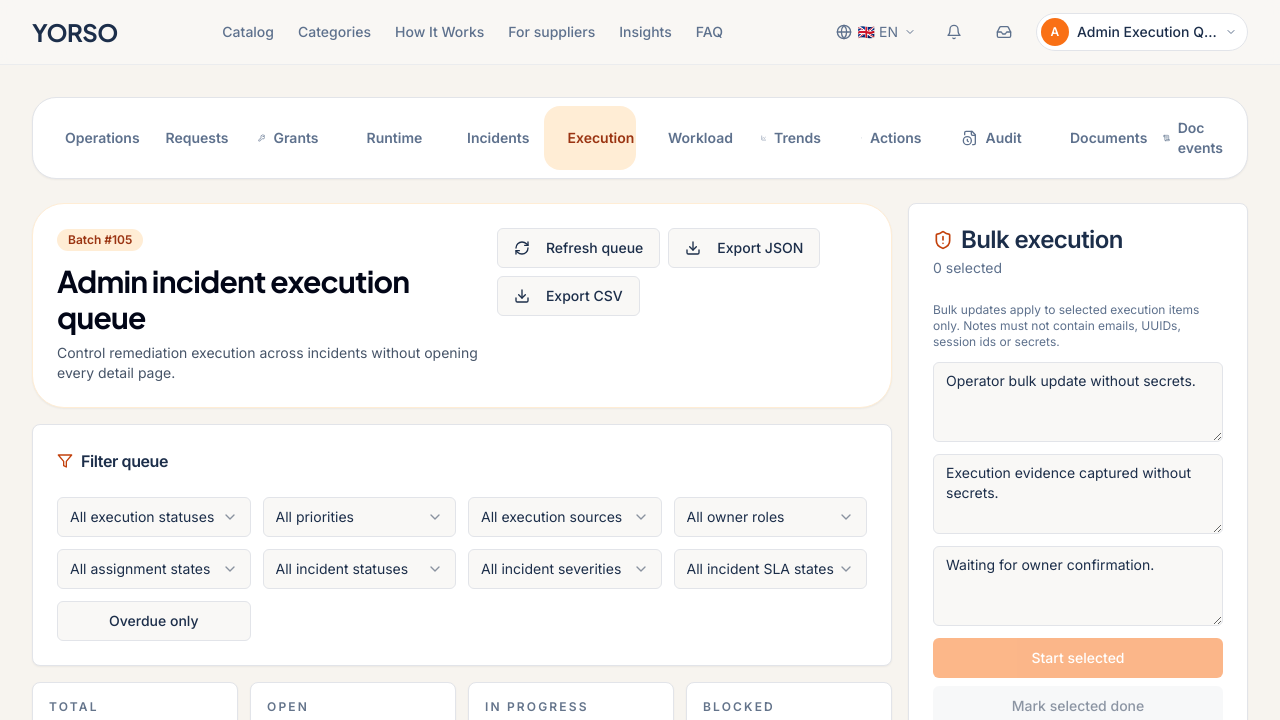
Test case: AdminIncidentExecutionQueue page › renders execution queue, exports and bulk updates selected items
Click the button with test id "admin-incident-execution-export-json".
click(744, 248)  # box [668,228,820,268]
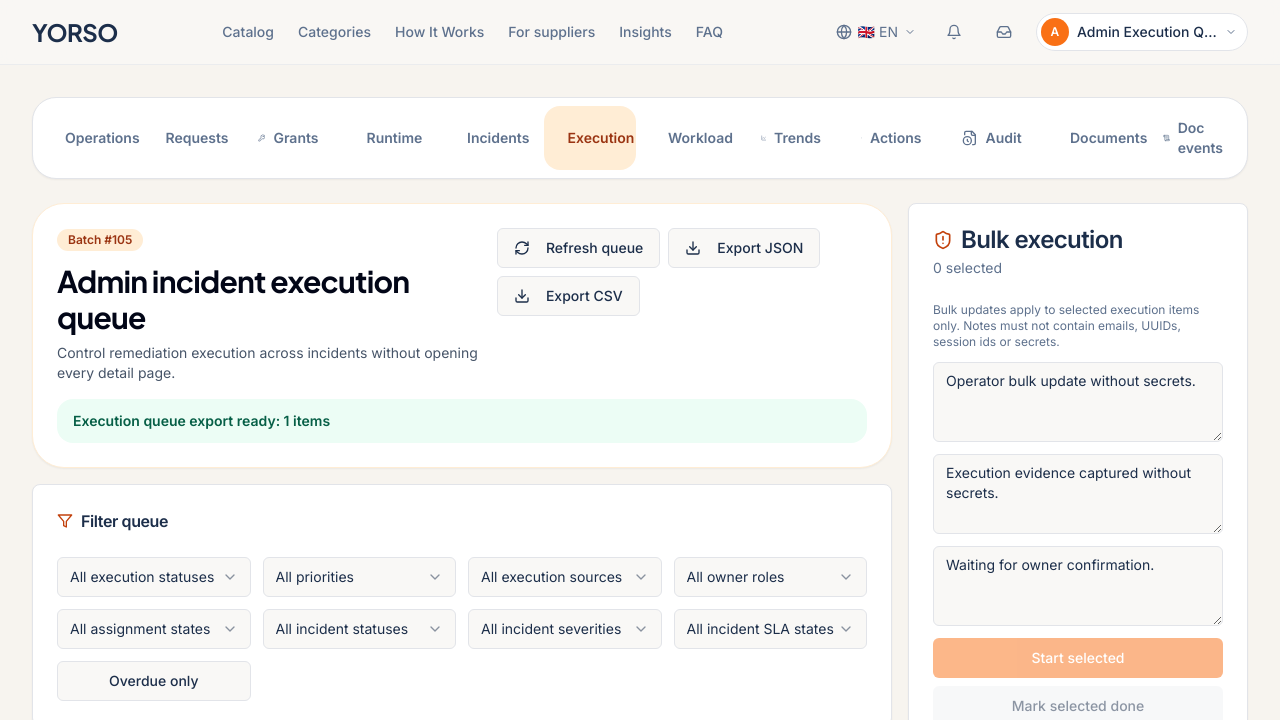
Expected: the text with test id "admin-incident-execution-export-status" shows "1 items", [73,412,330,429]
Click the button with test id "admin-incident-execution-export-csv".
click(568, 296)  # box [497,276,640,316]
(page scrolled)
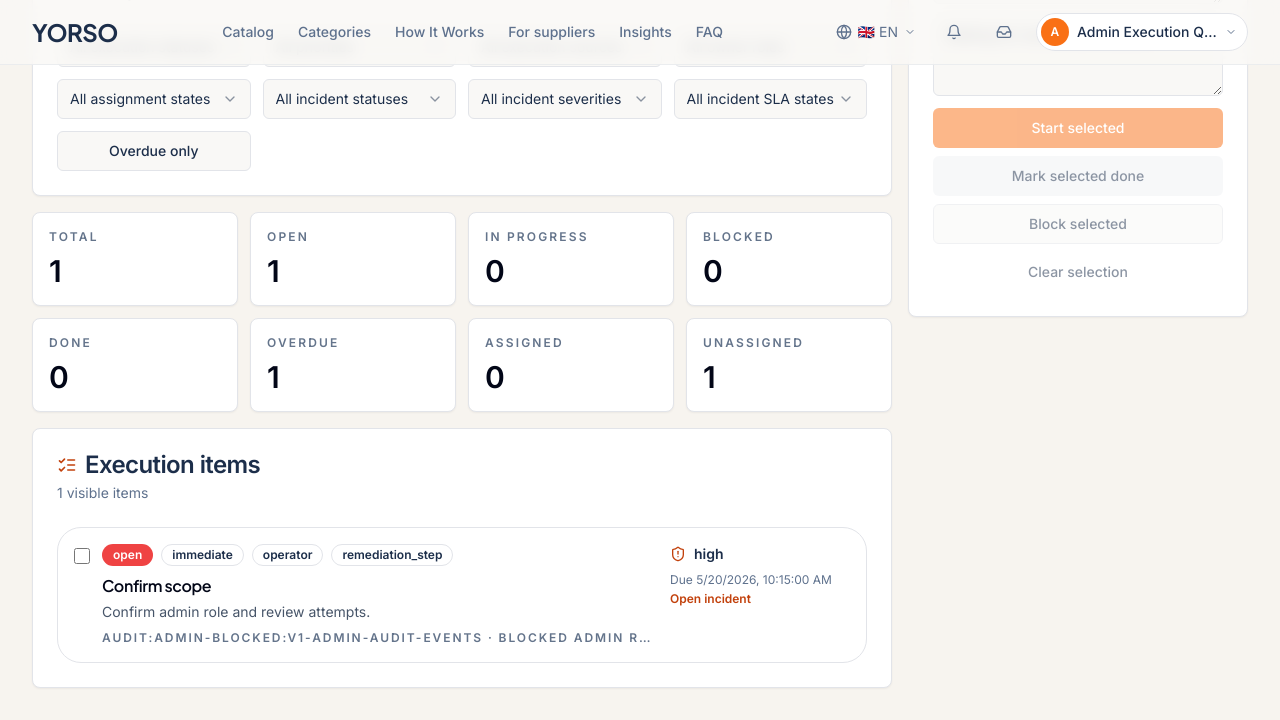
Click the checkbox named "Select remediation:01:confirm-scope".
click(82, 556)  # box [74,548,90,564]
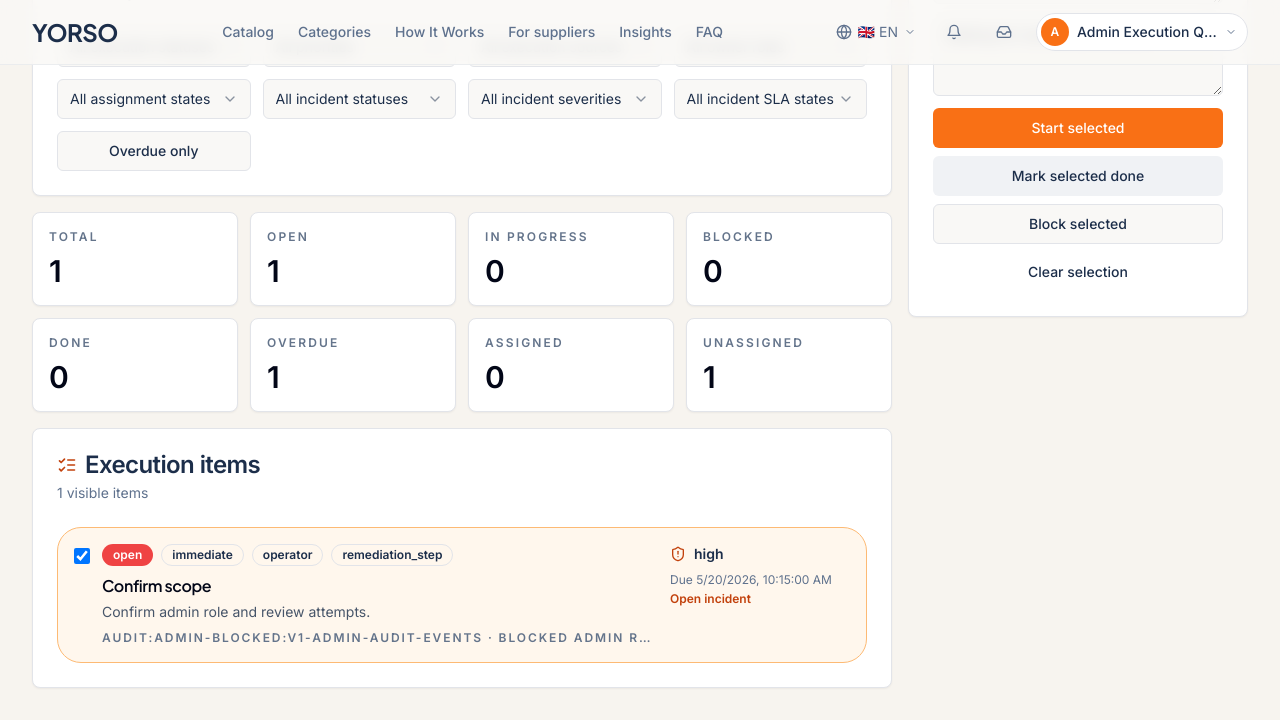
Click the button with test id "admin-incident-execution-bulk-start".
click(1078, 128)  # box [933,108,1223,148]
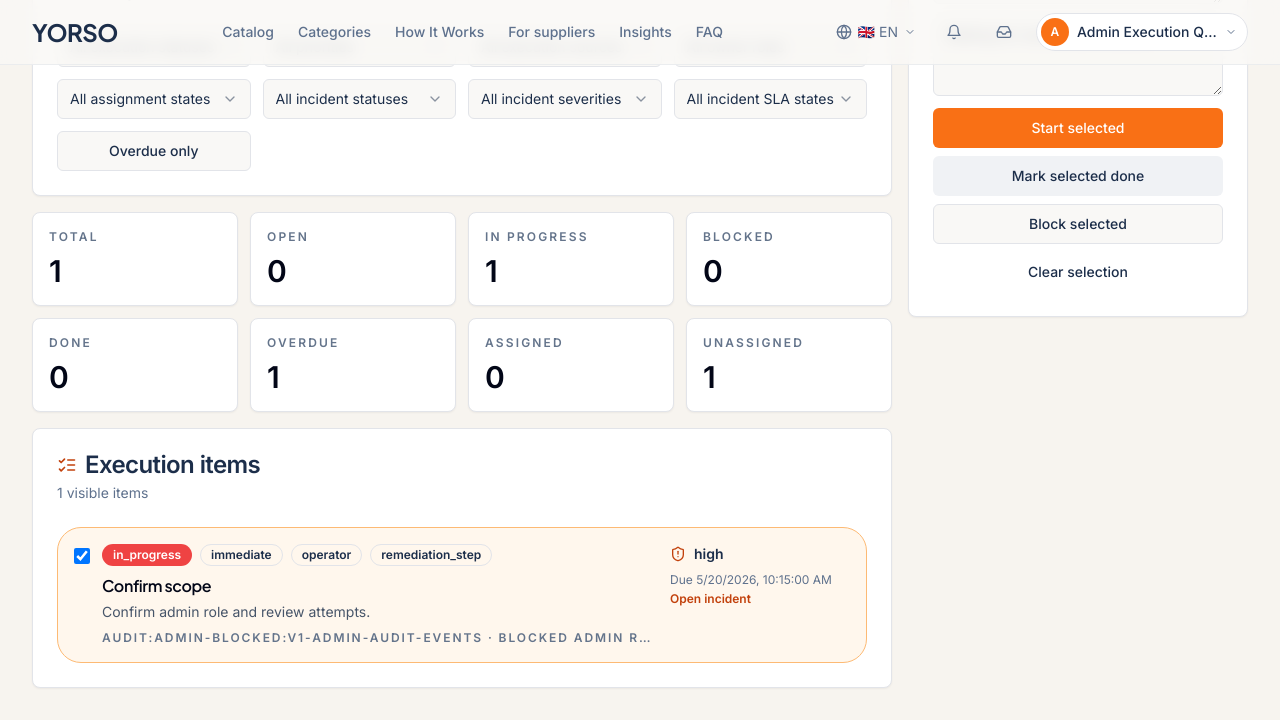
Expected: the text "in_progress" is shown, [102,544,192,566]
